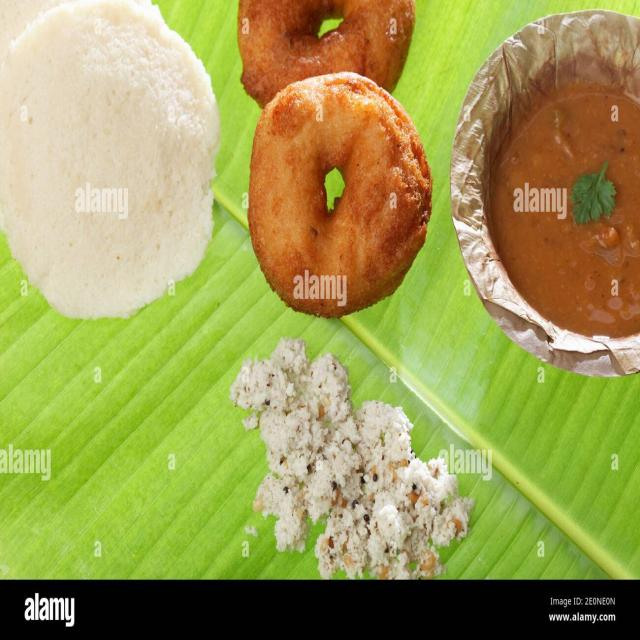MEDU VADA: (248, 72, 432, 318), (238, 0, 415, 107)
